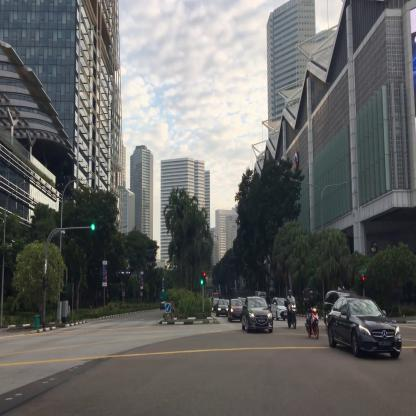green_traffic_light: (91, 224, 102, 230), (200, 272, 202, 284)
